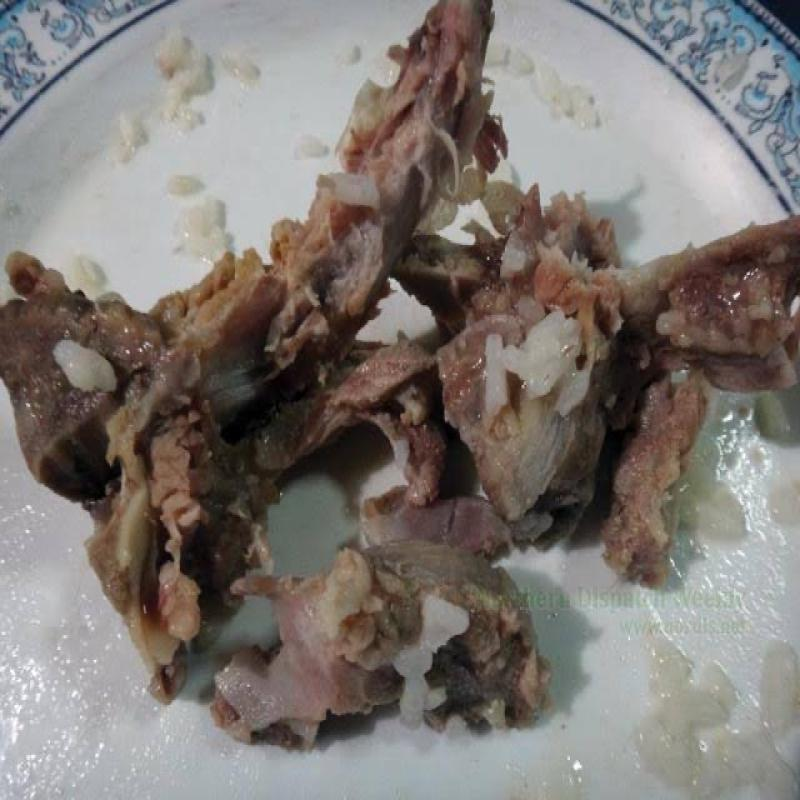left-over food: (0, 0, 505, 697), (389, 183, 800, 590), (210, 475, 552, 753)
